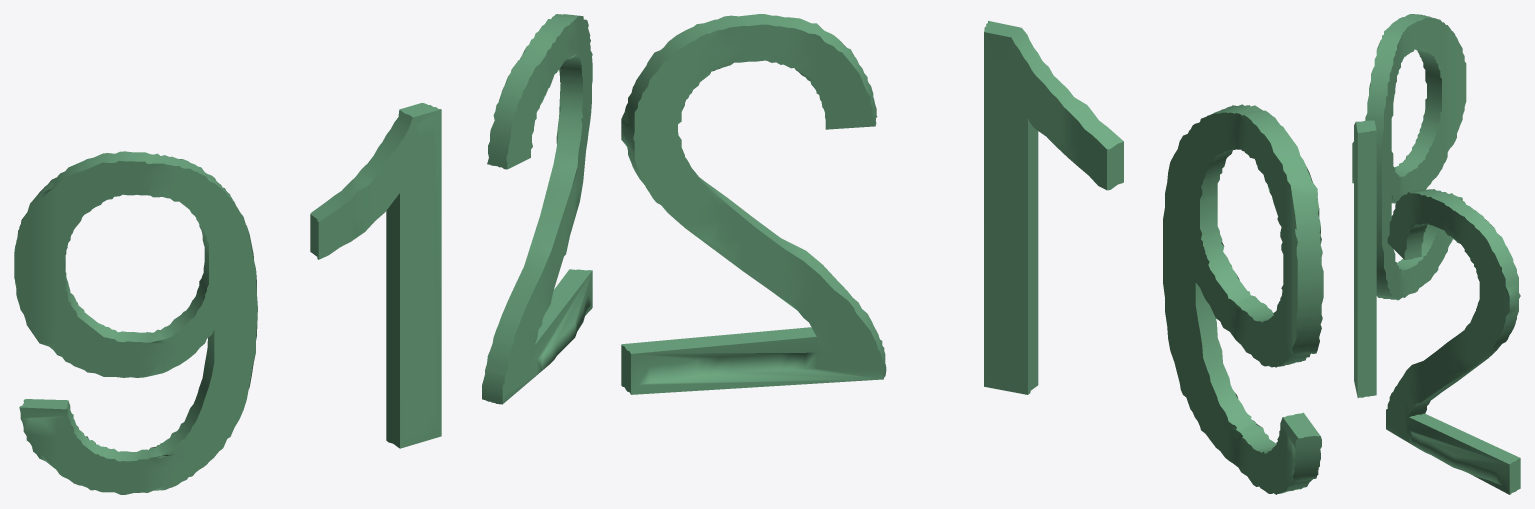
The model's file is port_12.obj.
3 renders of one model, left to right at view 1: azimuth 30°, elevation 25°; view 2: azimuth 150°, elevation 25°; view 3: azimuth 270°, elevation 25°, orthographic. The views are drawn at different scales.
Parts seen in each view (by area): view 1: Text01; view 2: Text01; view 3: Text01.
Part boxes in pixels (bbox=[...]): Text01: bbox=[14, 14, 592, 494]; Text01: bbox=[621, 14, 1323, 494]; Text01: bbox=[1352, 14, 1520, 494].
Bounding box in the file's own units: 3.06 × 1.59 × 0.9.
